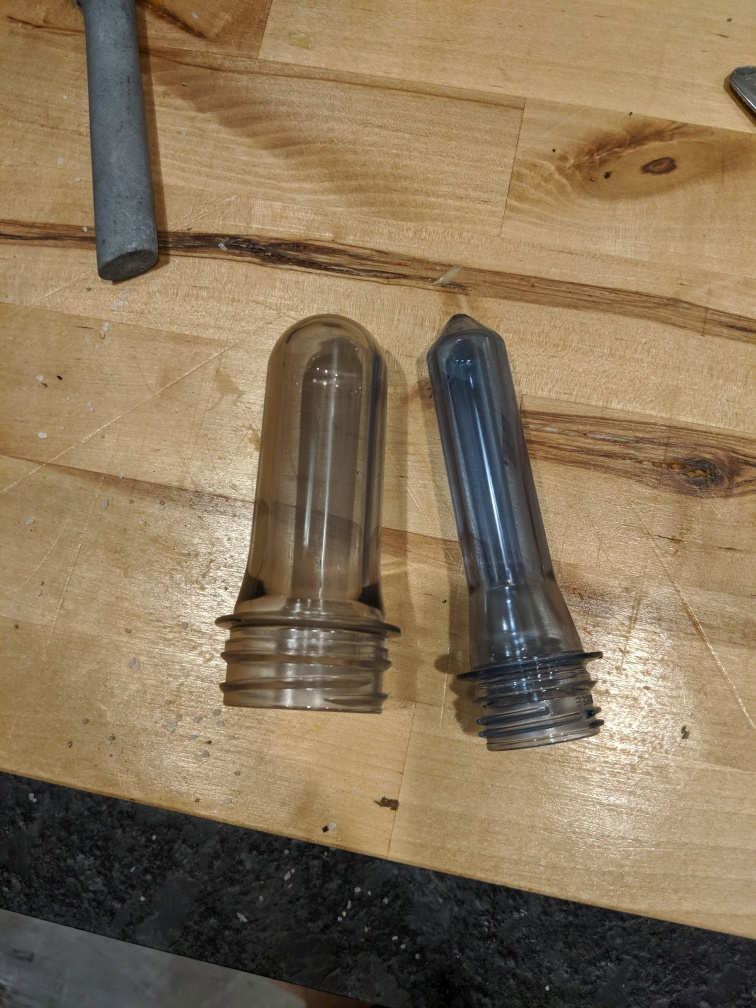preform: (206, 304, 414, 743), (421, 308, 620, 762)
